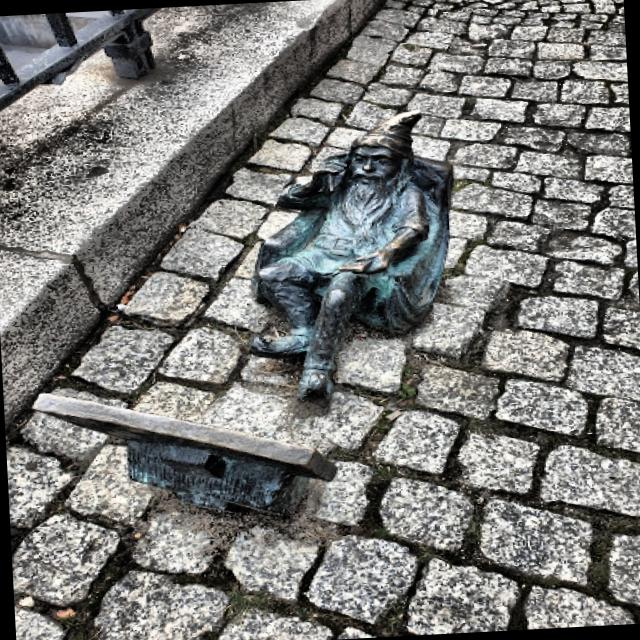Dialogomir: (248, 113, 453, 409), (33, 394, 338, 513)
